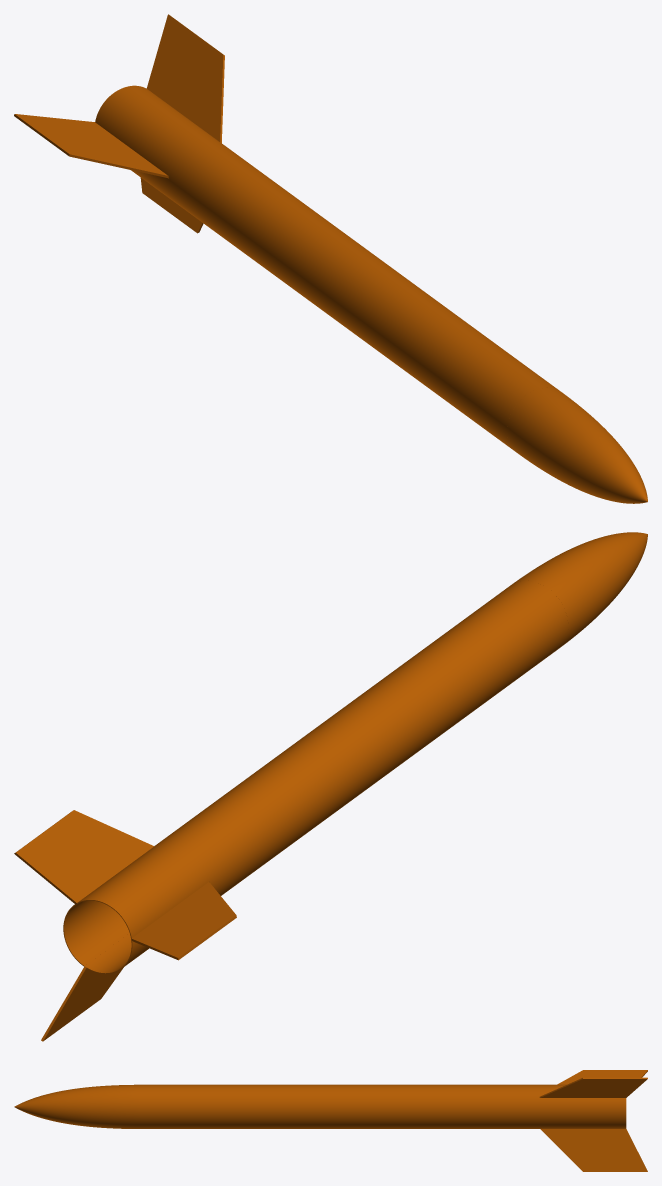
File: RAPTOR.glb
3 views of the same model, one above another, from view 1: azimuth 30°, elevation 25°; view 2: azimuth 150°, elevation 25°; view 3: azimuth 270°, elevation 25° (orthographic). The views are drawn at different scales.
Parts seen in each view (by area): view 1: Part 1 (×5), Part 4; view 2: Part 1 (×5), Part 4; view 3: Part 1 (×5), Part 4.
Boxes of the visible parts, <box> form: Part 1 (×5): <box>14,14,647,503</box>; Part 4: <box>242,193,559,450</box>; Part 1 (×5): <box>14,532,647,1041</box>; Part 4: <box>233,580,568,853</box>; Part 1 (×5): <box>14,1070,647,1171</box>; Part 4: <box>141,1084,452,1128</box>.
Bounding box in the file's own units: 0.4649 × 0.4924 × 2.79.
